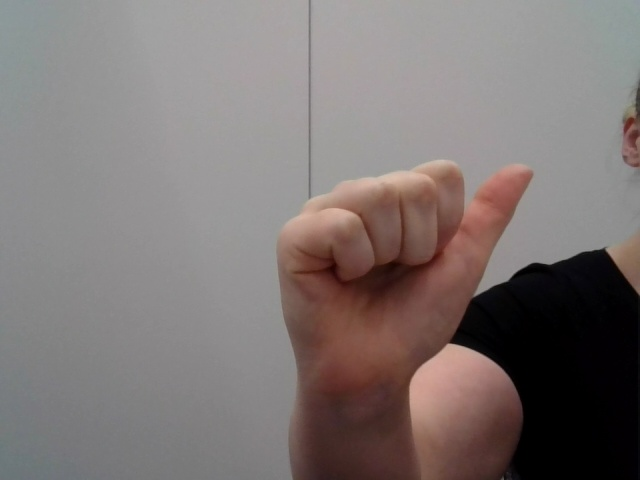left: (243, 148, 555, 390), (263, 145, 545, 388)
